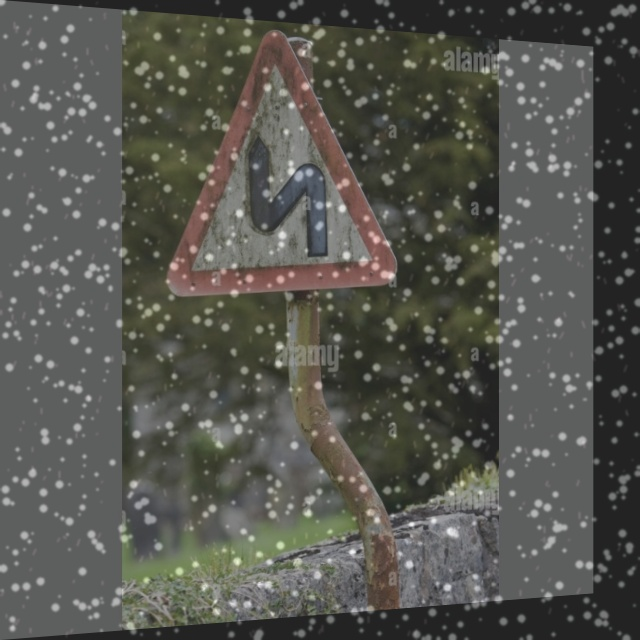Left_Reverse_Bend: (172, 21, 407, 297)
